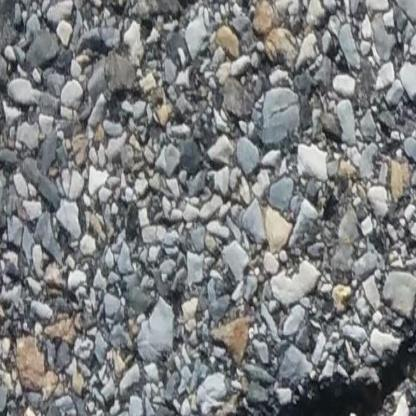Cracks: (219, 326, 416, 416)
